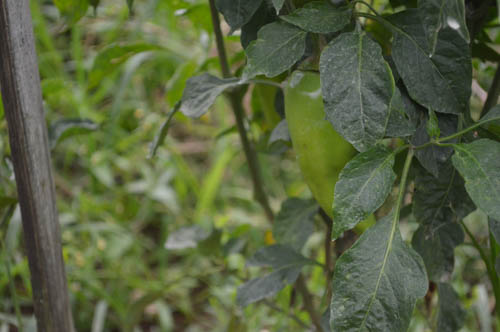ChiliPepper: (285, 71, 373, 235)
